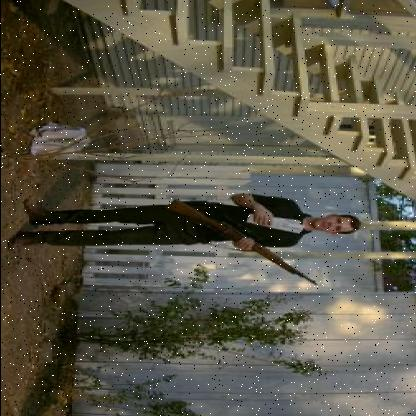rifle: (160, 197, 320, 287)
